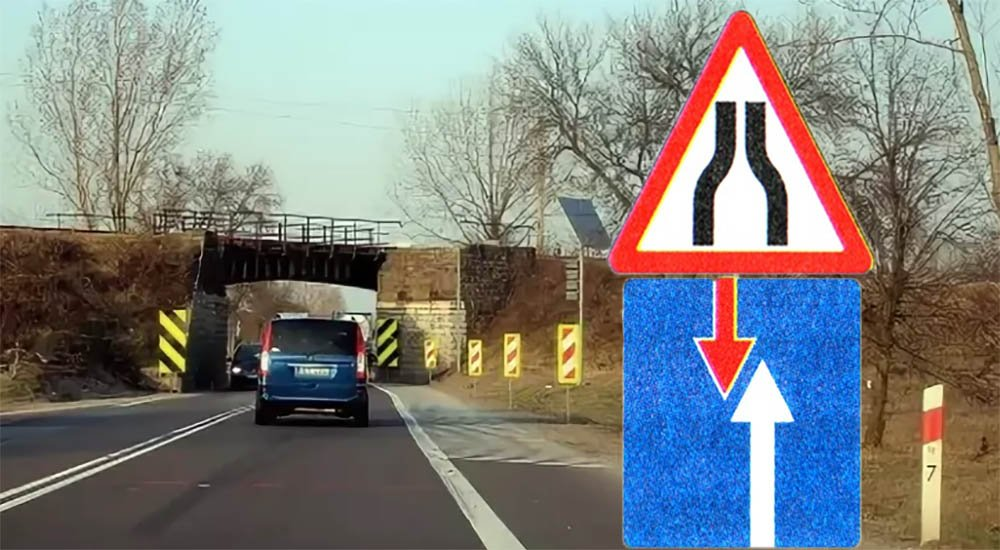1.18.1: (609, 10, 893, 273)
